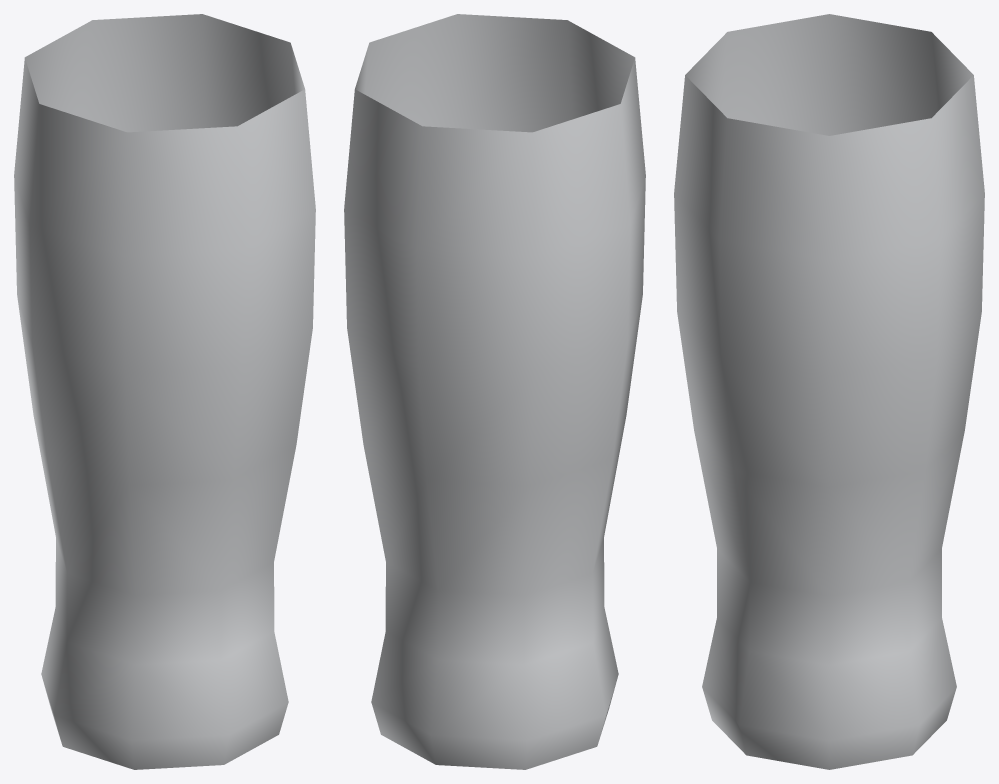
File: cooking_assets_weizen_glass.glb
3 renders of one model, left to right at view 1: azimuth 30°, elevation 25°; view 2: azimuth 150°, elevation 25°; view 3: azimuth 270°, elevation 25°, orthographic.
Visible parts, largest first — view 1: sercups_weizen_glass_Cylinder.122; view 2: sercups_weizen_glass_Cylinder.122; view 3: sercups_weizen_glass_Cylinder.122.
Part boxes in pixels (<box>): sercups_weizen_glass_Cylinder.122: <box>14,14,315,769</box>; sercups_weizen_glass_Cylinder.122: <box>344,14,645,769</box>; sercups_weizen_glass_Cylinder.122: <box>674,14,984,769</box>.
Bounding box in the file's own units: 1.2 × 2.75 × 1.2.
1 material, 1 textured.
